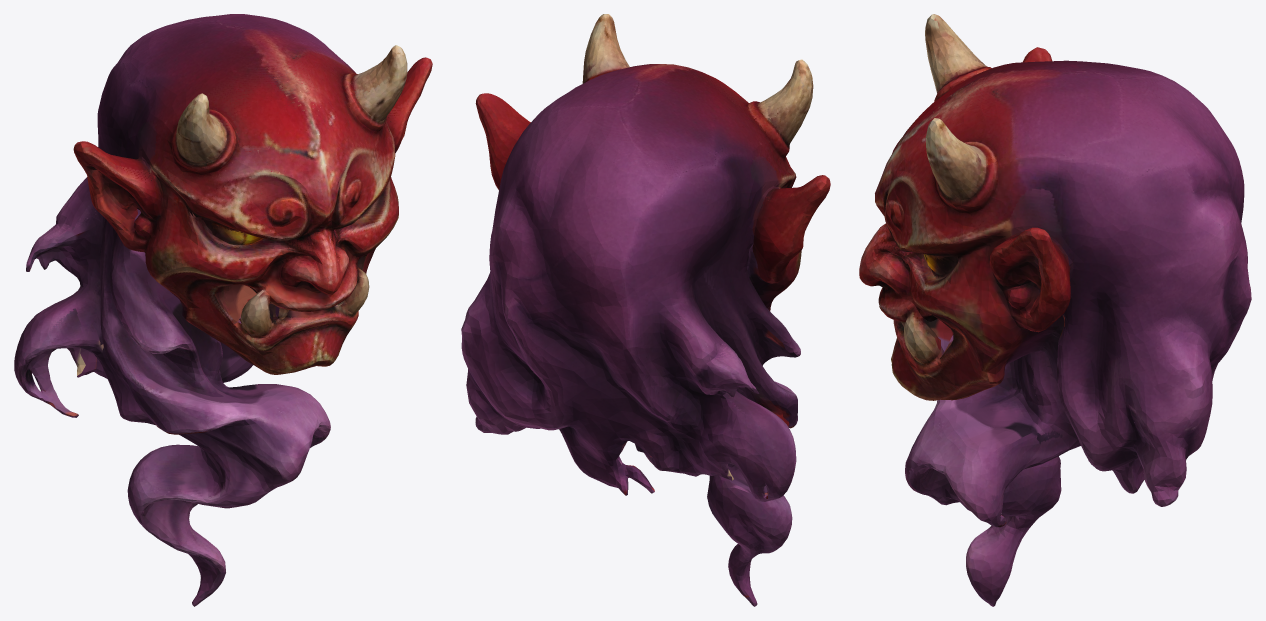
File: other_face.glb
3 views of the same model, side by side, from view 1: azimuth 30°, elevation 25°; view 2: azimuth 150°, elevation 25°; view 3: azimuth 270°, elevation 25° (orthographic). The views are drawn at different scales.
Parts seen in each view (by area): view 1: temp_mesh.ply; view 2: temp_mesh.ply; view 3: temp_mesh.ply.
Part boxes in pixels (x1,y1,x2,y2): temp_mesh.ply: [14, 14, 432, 606]; temp_mesh.ply: [461, 14, 830, 606]; temp_mesh.ply: [859, 14, 1251, 606].
Bounding box in the file's own units: 1.41 × 1.97 × 1.21.
1 material, 1 textured.
